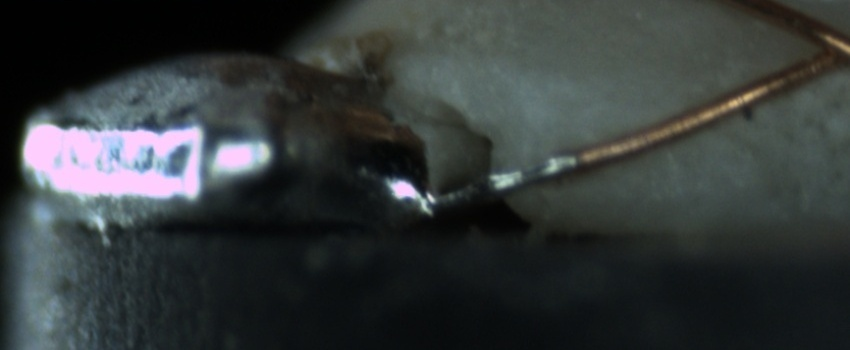CL: (791, 12, 850, 82)
TS: (421, 151, 575, 212)
TTCW: (407, 126, 618, 219)
